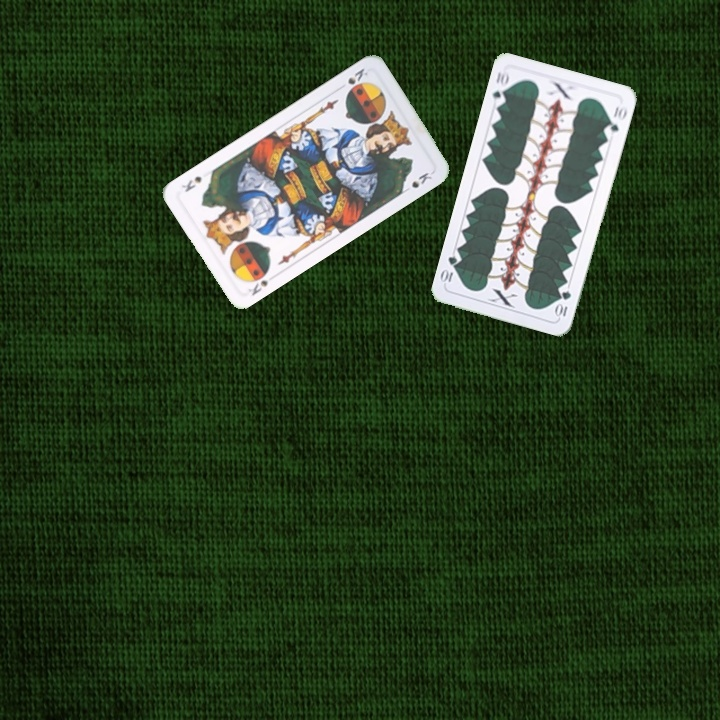G10: (488, 67, 512, 108), (552, 287, 574, 319)
SK: (334, 64, 371, 92), (244, 276, 271, 298)
